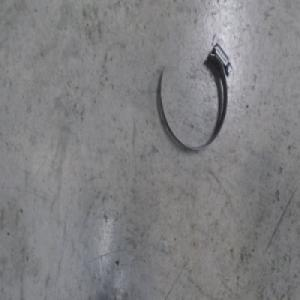AdjustableClamp: (157, 39, 232, 156)
